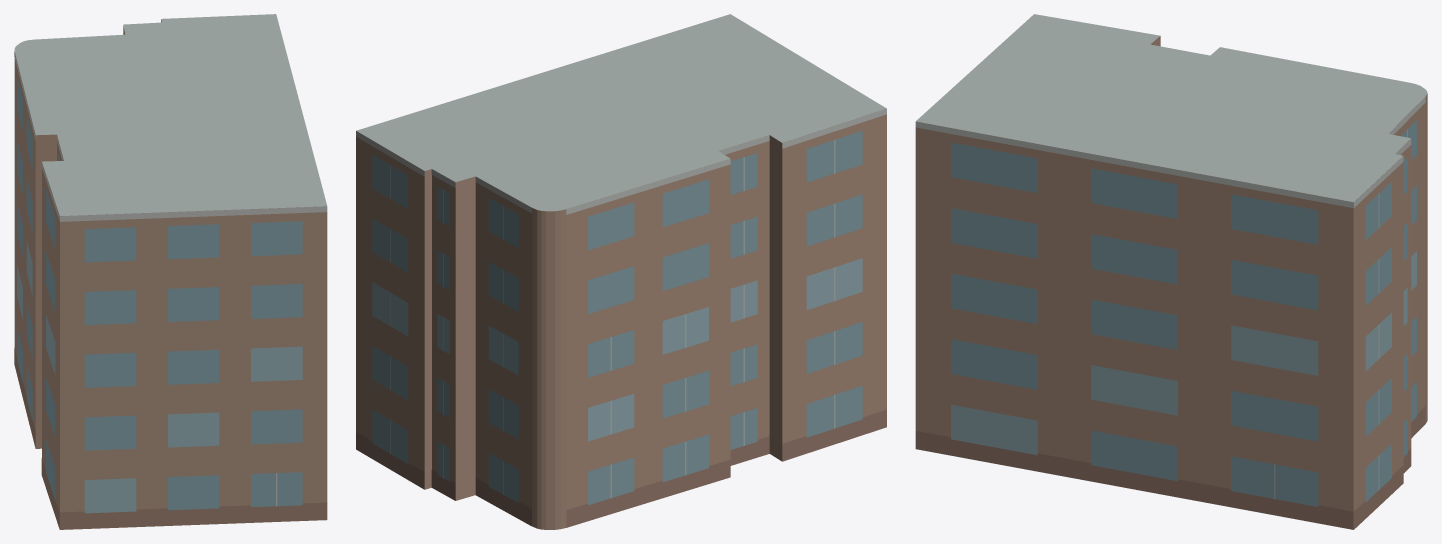
The model's file is survey-upis-32737702.glb.
3 views of the same model, side by side, from view 1: azimuth 30°, elevation 25°; view 2: azimuth 150°, elevation 25°; view 3: azimuth 270°, elevation 25° (orthographic). The views are drawn at different scales.
Visible parts, largest first — view 1: survey-upis-32737702.tmp; view 2: survey-upis-32737702.tmp; view 3: survey-upis-32737702.tmp.
Part boxes in pixels (x1,y1,x2,y2): survey-upis-32737702.tmp: [14, 14, 327, 529]; survey-upis-32737702.tmp: [356, 14, 886, 529]; survey-upis-32737702.tmp: [915, 14, 1427, 529].
Size of the model in its own units: 16.4 by 13.3 by 18.84.
